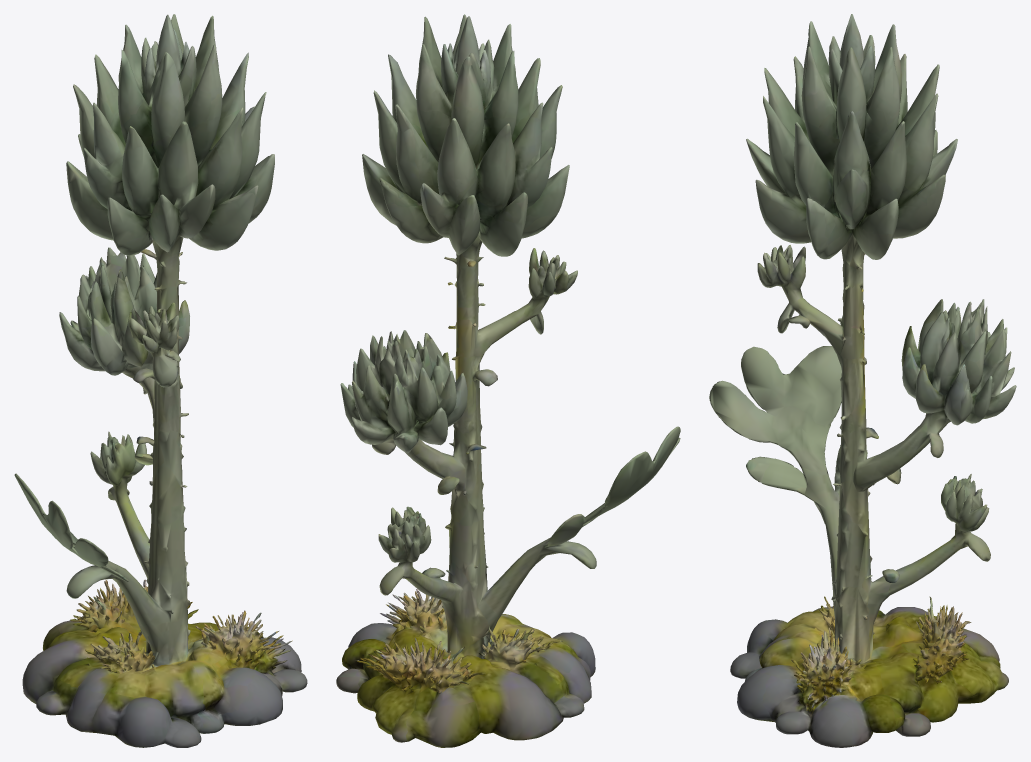
The model's file is fraijelon.glb.
3 renders of one model, left to right at view 1: azimuth 30°, elevation 25°; view 2: azimuth 150°, elevation 25°; view 3: azimuth 270°, elevation 25°, orthographic.
Visible parts, largest first — view 1: tripo_node_6d452d9e-a026-4c0d-999e-c41c0cd7a1f3; view 2: tripo_node_6d452d9e-a026-4c0d-999e-c41c0cd7a1f3; view 3: tripo_node_6d452d9e-a026-4c0d-999e-c41c0cd7a1f3.
Boxes of the visible parts, x1=… form: tripo_node_6d452d9e-a026-4c0d-999e-c41c0cd7a1f3: x1=14, y1=14, x2=307, y2=747; tripo_node_6d452d9e-a026-4c0d-999e-c41c0cd7a1f3: x1=336, y1=14, x2=680, y2=747; tripo_node_6d452d9e-a026-4c0d-999e-c41c0cd7a1f3: x1=709, y1=14, x2=1016, y2=747.
Size of the model in its own units: 0.4423 by 1 by 0.4109.
Materials: 1 (1 with a texture image).
